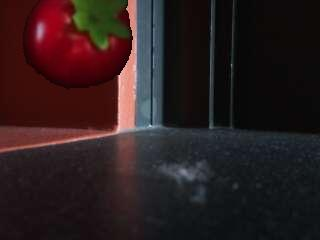Tomato: (20, 2, 132, 91)
